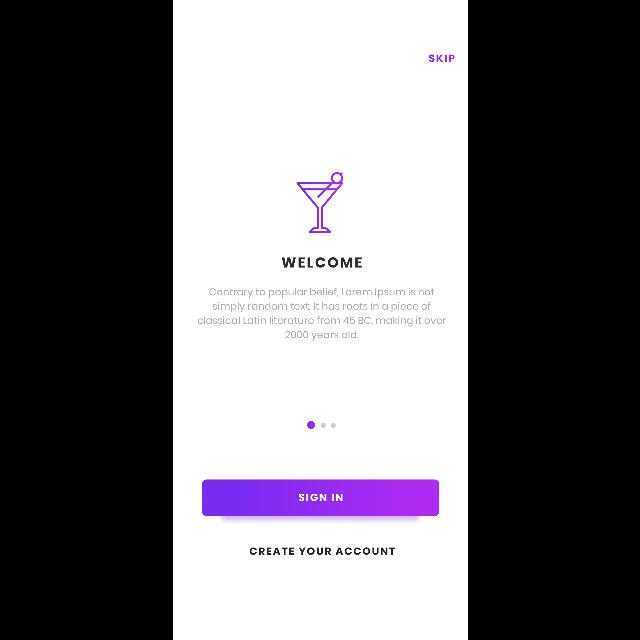image: (296, 172, 342, 234)
pageindicator: (306, 421, 336, 429)
text: (197, 288, 446, 340), (249, 548, 395, 554), (281, 257, 361, 267), (428, 54, 454, 61)
textbutton: (202, 480, 438, 516)
